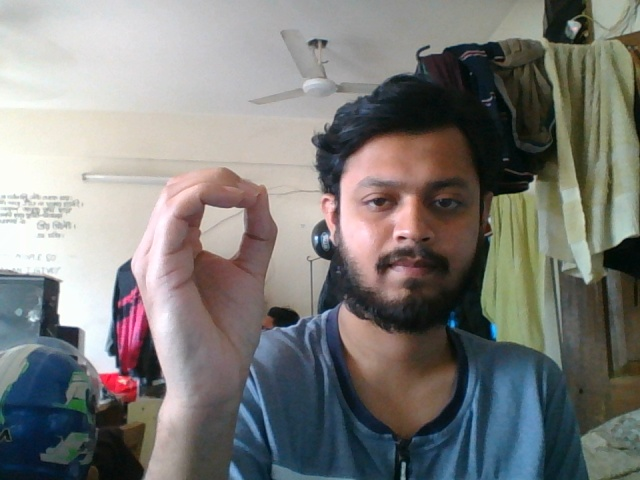oo: (118, 162, 288, 428)
